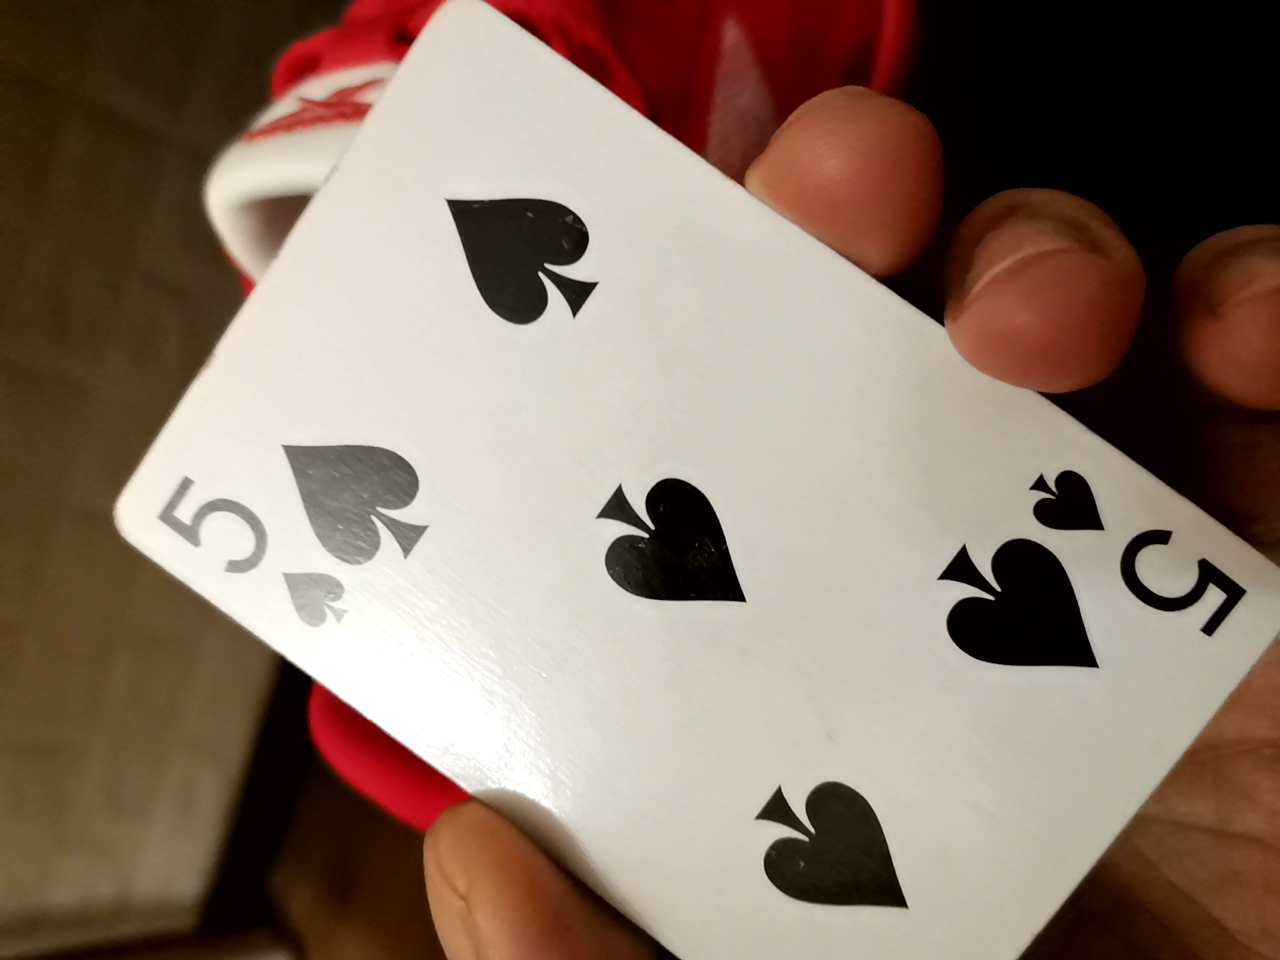ht 5: (107, 17, 1270, 958)
